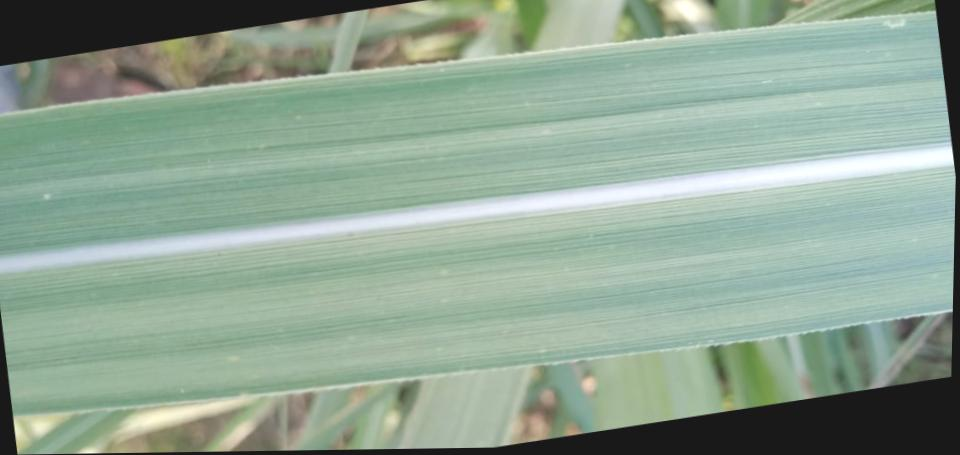Healthy: (0, 13, 956, 414)
